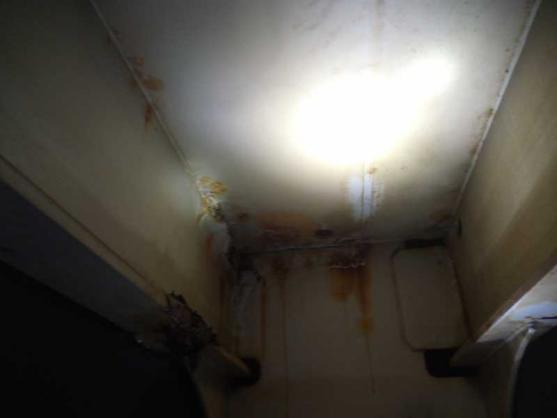corrosion: (146, 299, 225, 373), (322, 242, 387, 331), (224, 222, 280, 298), (120, 54, 180, 123), (201, 175, 251, 218)
